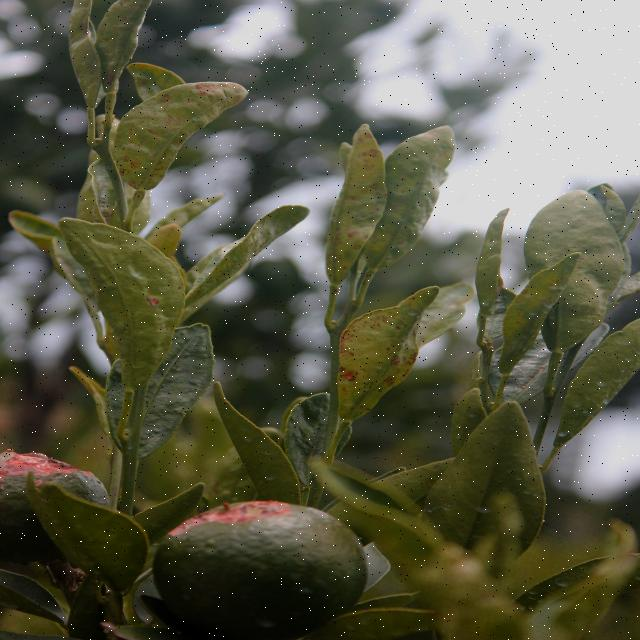canker: (89, 78, 243, 178), (319, 133, 386, 274), (336, 314, 433, 398)
